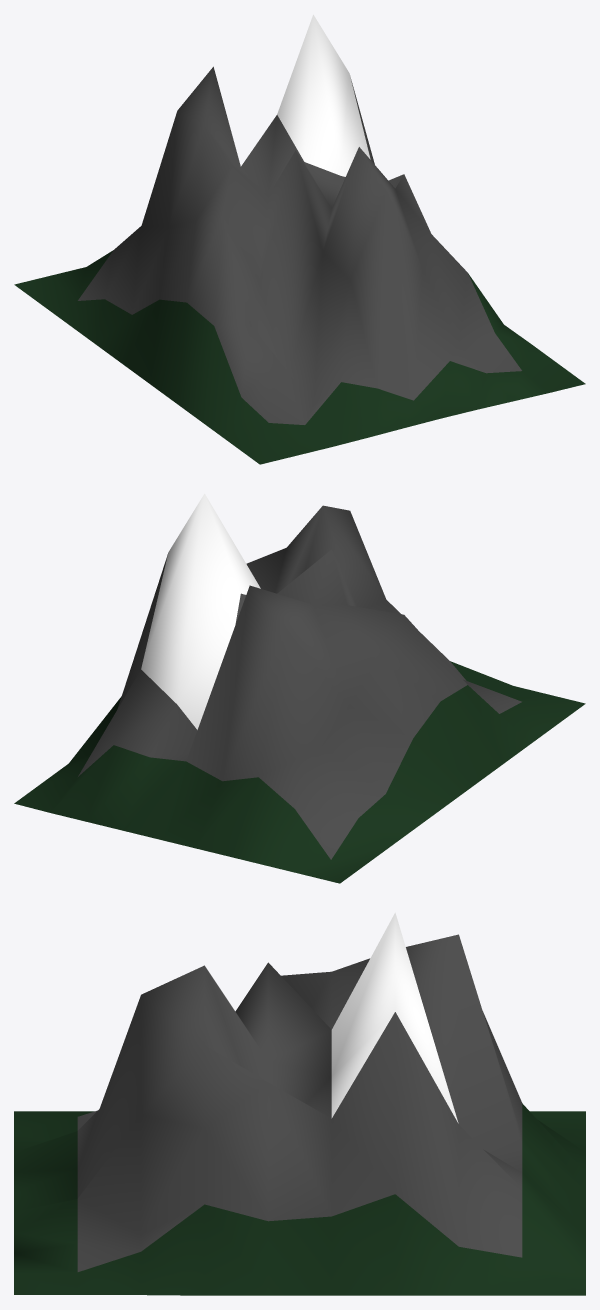
The model's file is mountain.v2.fbx.
The picture shows the model from 3 angles, top to bottom: view 1: azimuth 30°, elevation 25°; view 2: azimuth 150°, elevation 25°; view 3: azimuth 270°, elevation 25°; orthographic projection. The views are drawn at different scales.
Parts seen in each view (by area): view 1: Landscape.003; view 2: Landscape.003; view 3: Landscape.003.
Boxes of the visible parts, left/top/right/bottom form: Landscape.003: left=14, top=14, right=585, bottom=464; Landscape.003: left=14, top=493, right=585, bottom=883; Landscape.003: left=14, top=912, right=585, bottom=1295.
Size of the model in its own units: 3760 by 3137 by 4914.
